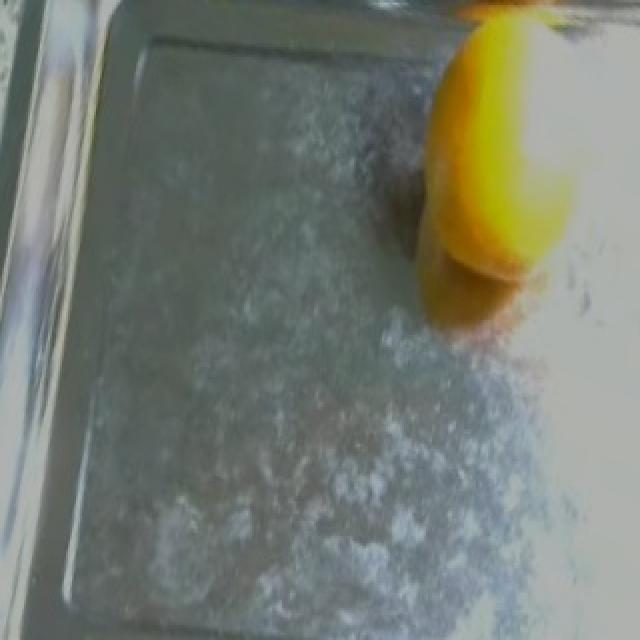Fruit: (416, 0, 640, 50)
